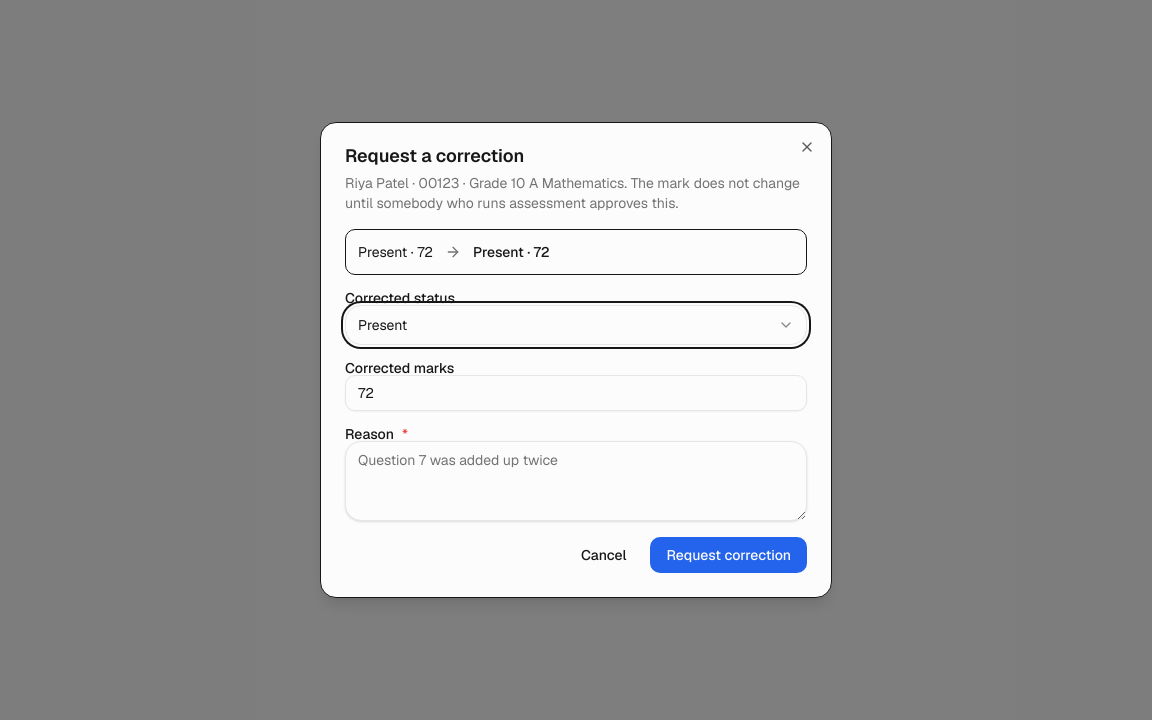
Test: requesting a correction › clears and disables the mark for a status that takes none
Click the dropdown named "corrected status": click(383, 325) [345,305,807,345]
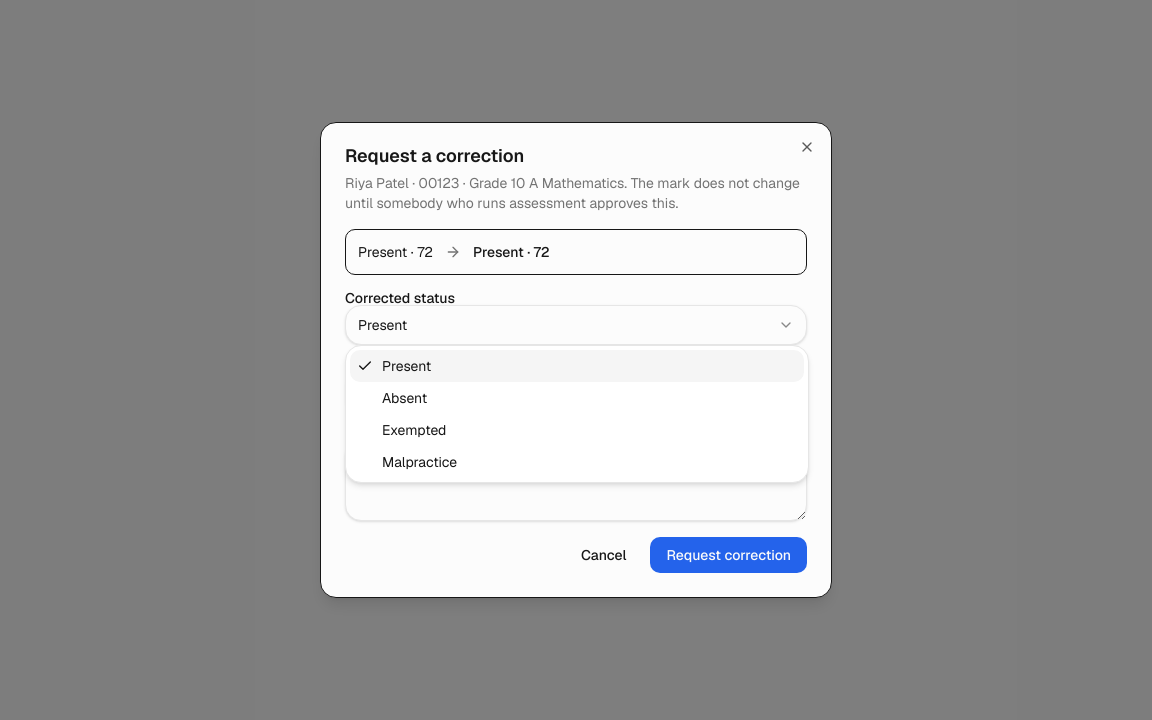
Click the option "Absent": click(405, 398) [382,389,427,407]
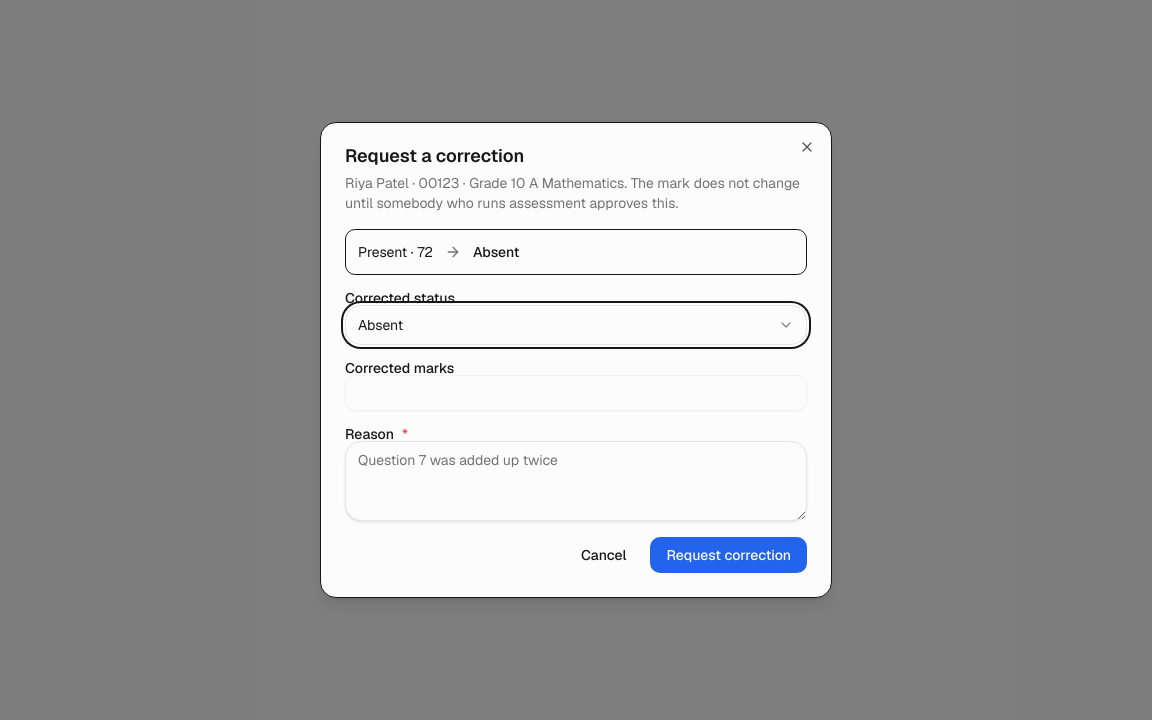
Expected: the field labelled "Corrected marks" is empty, [345,375,807,411]
Expected: the field labelled "Corrected marks" is disabled, [345,375,807,411]
Expected: the text with test id "correction-after" reads "Absent", [473,243,520,261]
